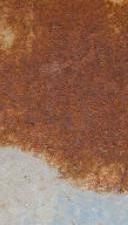Corrosion: (1, 1, 128, 196)
